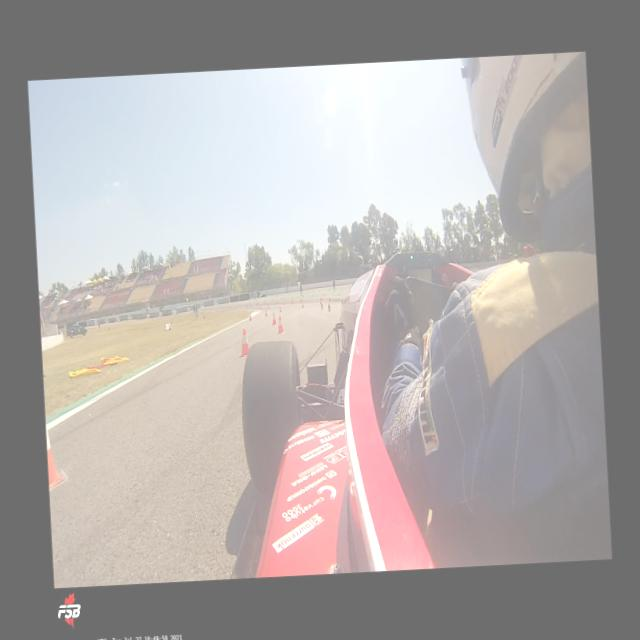orange_cone: (46, 418, 64, 490), (238, 328, 250, 357), (277, 316, 284, 334), (272, 313, 276, 325), (249, 312, 252, 322), (265, 310, 267, 316), (280, 306, 282, 312), (302, 302, 304, 308)
yellow_cone: (328, 304, 331, 312), (322, 304, 324, 310)
